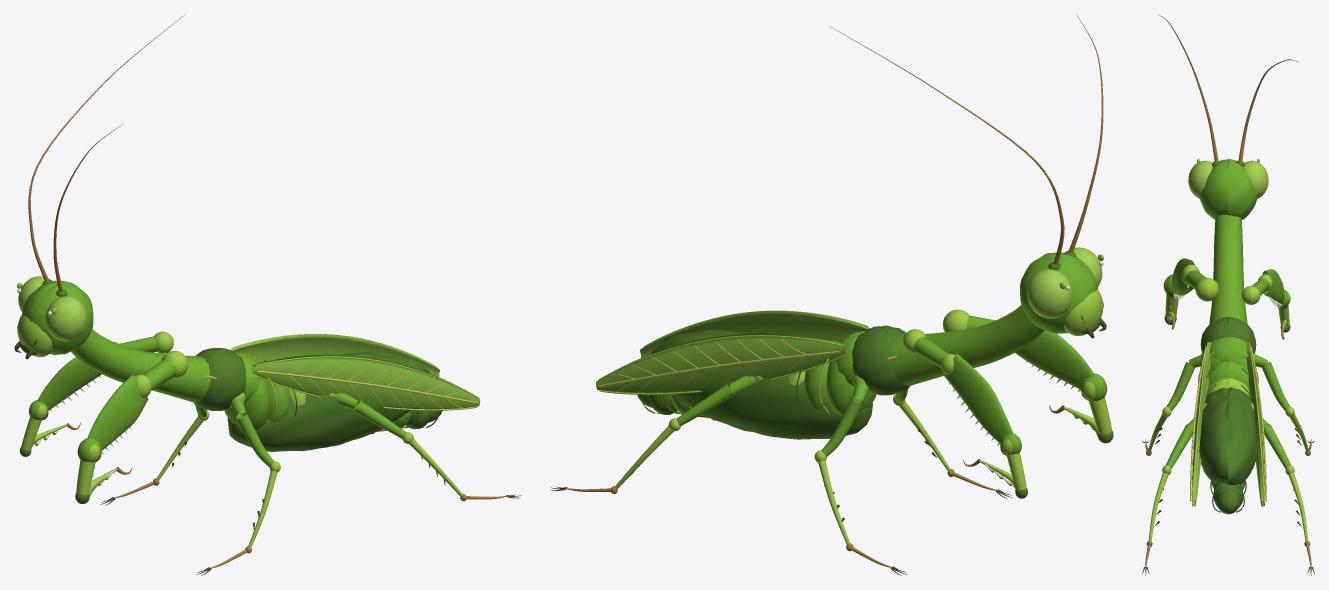
The model's file is praying_mantis.glb.
3 views of the same model, side by side, from view 1: azimuth 30°, elevation 25°; view 2: azimuth 150°, elevation 25°; view 3: azimuth 270°, elevation 25° (orthographic). The views are drawn at different scales.
Parts seen in each view (by area): view 1: Wing | near leaf, Abdomen | soft core, Prothorax | elongated shield, Wing | far leaf, Thorax | mesonotum, Raptorial femur | -1, Head | sculpted capsule, Raptorial femur | 1, Eye | compound near, Abdominal tergite 01, Face | clypeus shield, Antenna | 1 (+4 smaller); view 2: Wing | far leaf, Abdomen | soft core, Prothorax | elongated shield, Wing | near leaf, Thorax | mesonotum, Head | sculpted capsule, Raptorial femur | 1, Raptorial femur | -1, Eye | compound far, Abdominal tergite 01, Face | clypeus shield, Abdominal tergite 02 (+6 smaller); view 3: Abdomen | soft core, Prothorax | elongated shield, Head | sculpted capsule, Thorax | mesonotum, Wing | far leaf, Wing | near leaf, Thorax | scutellum, Abdominal tergite 02, Eye | compound near, Eye | compound far, Raptorial femur | -1, Abdominal tip | terminal plate (+18 smaller).
Boxes of the visible parts, x1,y1,x2,y2 form: Wing | near leaf: [251, 354, 480, 409]; Abdomen | soft core: [227, 351, 429, 451]; Prothorax | elongated shield: [71, 329, 210, 402]; Wing | far leaf: [230, 334, 440, 376]; Thorax | mesonotum: [193, 348, 245, 411]; Raptorial femur | -1: [87, 374, 148, 449]; Head | sculpted capsule: [22, 280, 93, 354]; Raptorial femur | 1: [37, 357, 101, 410]; Eye | compound near: [45, 296, 86, 341]; Abdominal tergite 01: [224, 379, 269, 430]; Face | clypeus shield: [17, 315, 52, 356]; Antenna | 1: [28, 14, 185, 281]; Wing | far leaf: [596, 333, 846, 393]; Abdomen | soft core: [651, 329, 872, 439]; Prothorax | elongated shield: [892, 305, 1044, 385]; Wing | near leaf: [639, 311, 869, 357]; Thorax | mesonotum: [852, 325, 910, 395]; Head | sculpted capsule: [1020, 252, 1098, 333]; Raptorial femur | 1: [944, 353, 1013, 443]; Raptorial femur | -1: [1015, 330, 1094, 389]; Eye | compound far: [1027, 269, 1072, 318]; Abdominal tergite 01: [826, 360, 876, 416]; Face | clypeus shield: [1063, 289, 1103, 335]; Abdominal tergite 02: [804, 340, 840, 409]; Abdomen | soft core: [1199, 387, 1257, 485]; Prothorax | elongated shield: [1209, 214, 1247, 324]; Head | sculpted capsule: [1199, 159, 1256, 219]; Thorax | mesonotum: [1200, 317, 1256, 353]; Wing | far leaf: [1245, 342, 1264, 506]; Wing | near leaf: [1192, 342, 1211, 506]; Thorax | scutellum: [1203, 337, 1253, 361]; Abdominal tergite 02: [1208, 361, 1248, 388]; Eye | compound near: [1188, 160, 1212, 198]; Eye | compound far: [1244, 160, 1268, 198]; Raptorial femur | -1: [1171, 258, 1194, 295]; Abdominal tip | terminal plate: [1216, 489, 1240, 514].
Size of the model in its own units: 6 by 6.03 by 2.3.
Materials: 9 (9 with a texture image).
